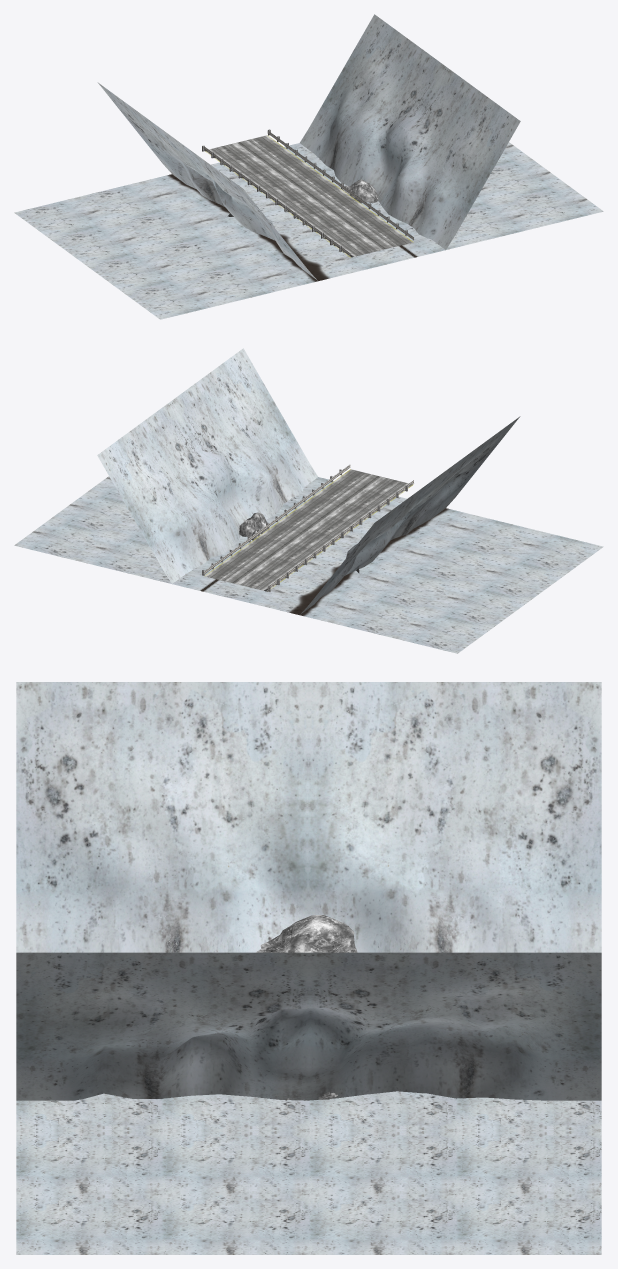
3 renders of one model, top to bottom at view 1: azimuth 30°, elevation 25°; view 2: azimuth 150°, elevation 25°; view 3: azimuth 270°, elevation 25°, orthographic. The views are drawn at different scales.
Parts seen in each view (by area): view 1: scene6, wall, road; view 2: scene6, wall, road; view 3: wall, scene6.
Boxes of the visible parts, bbox=[...] form: scene6: bbox=[14, 142, 603, 319]; wall: bbox=[97, 14, 520, 280]; road: bbox=[202, 129, 413, 257]; scene6: bbox=[14, 476, 603, 653]; wall: bbox=[97, 348, 520, 614]; road: bbox=[202, 464, 413, 591]; wall: bbox=[16, 682, 601, 1100]; scene6: bbox=[16, 1091, 601, 1254].
Bounding box in the file's own units: 140 × 33.69 × 80.
